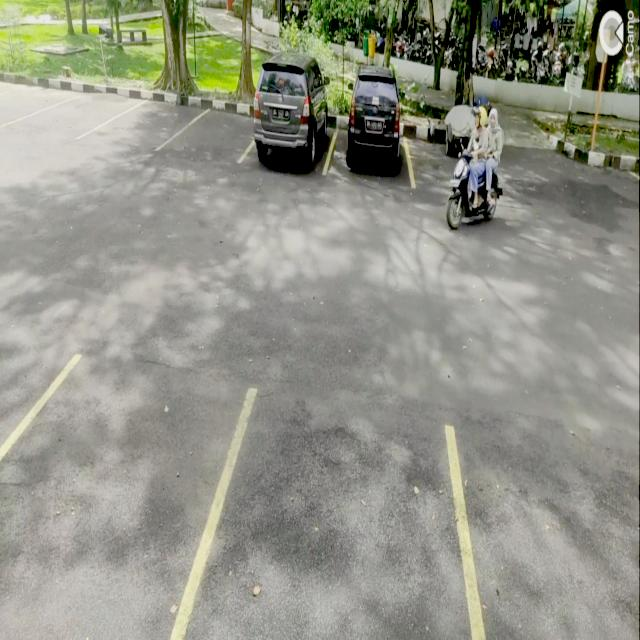empty: (0, 344, 245, 638), (176, 395, 477, 633), (2, 90, 144, 149), (157, 107, 262, 170), (75, 100, 212, 148)
occupied: (248, 66, 332, 177), (331, 74, 413, 186)
